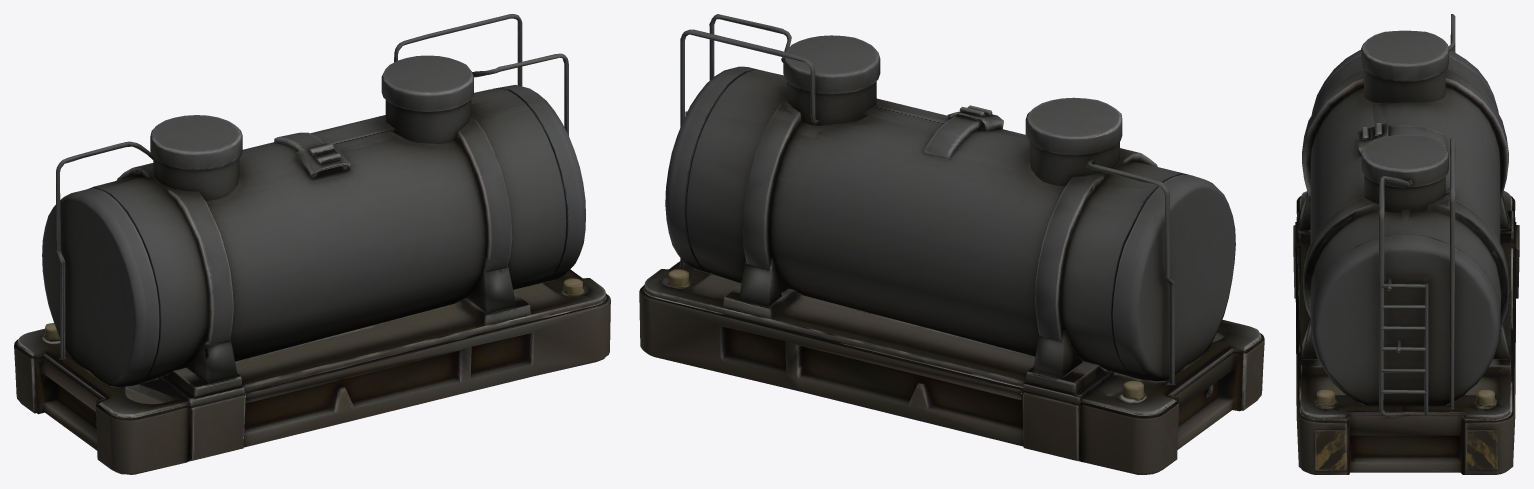
Rendered from selected.glb.
3 views of the same model, side by side, from view 1: azimuth 30°, elevation 25°; view 2: azimuth 150°, elevation 25°; view 3: azimuth 270°, elevation 25° (orthographic). The views are drawn at different scales.
Parts seen in each view (by area): view 1: tripo_node_f63e554e-a7ff-4ac5-9862-6d9e98e6665a; view 2: tripo_node_f63e554e-a7ff-4ac5-9862-6d9e98e6665a; view 3: tripo_node_f63e554e-a7ff-4ac5-9862-6d9e98e6665a.
Boxes of the visible parts, bbox=[...] form: tripo_node_f63e554e-a7ff-4ac5-9862-6d9e98e6665a: bbox=[14, 14, 610, 474]; tripo_node_f63e554e-a7ff-4ac5-9862-6d9e98e6665a: bbox=[639, 14, 1264, 474]; tripo_node_f63e554e-a7ff-4ac5-9862-6d9e98e6665a: bbox=[1293, 14, 1519, 474].
Bounding box in the file's own units: 0.998 × 0.5566 × 0.4121.
1 material, 1 textured.
